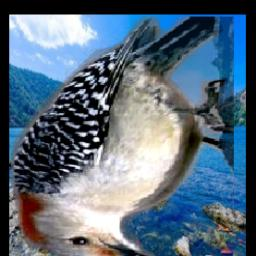Woodpecker: (12, 18, 235, 256)
